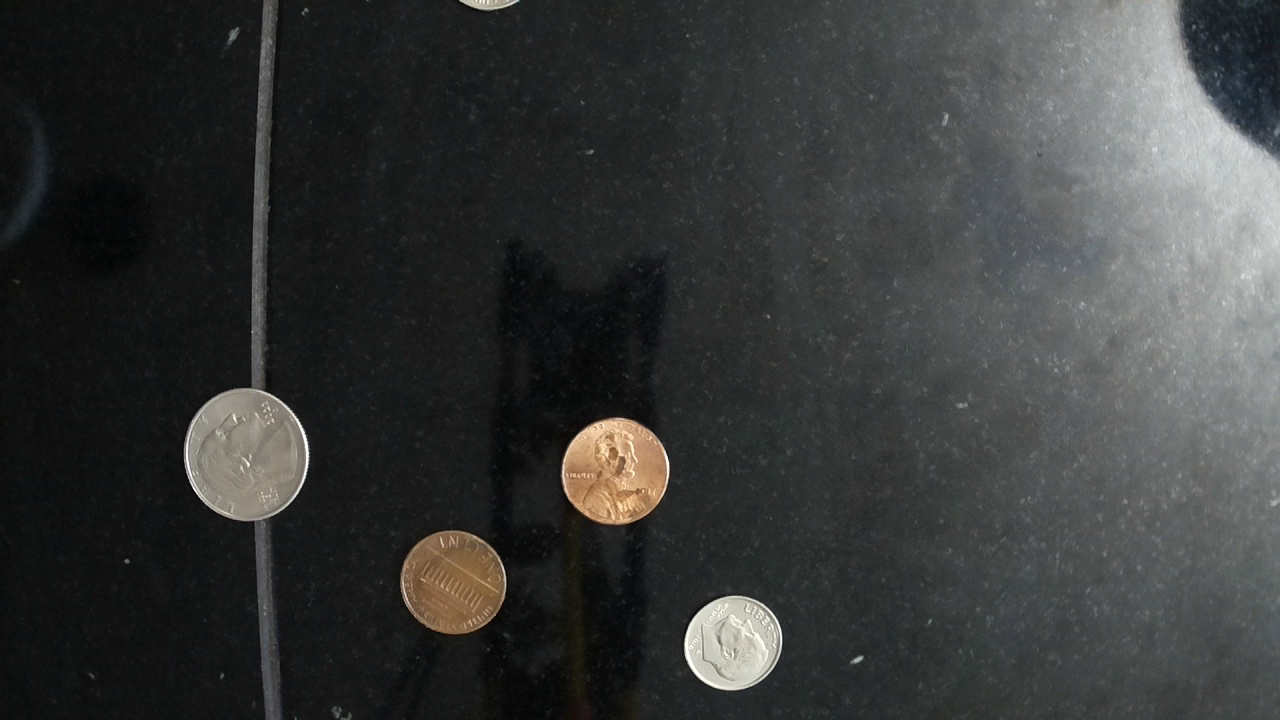dime: (681, 591, 787, 697)
penny: (556, 413, 674, 527), (397, 525, 511, 639)
quarter: (178, 384, 314, 526)
